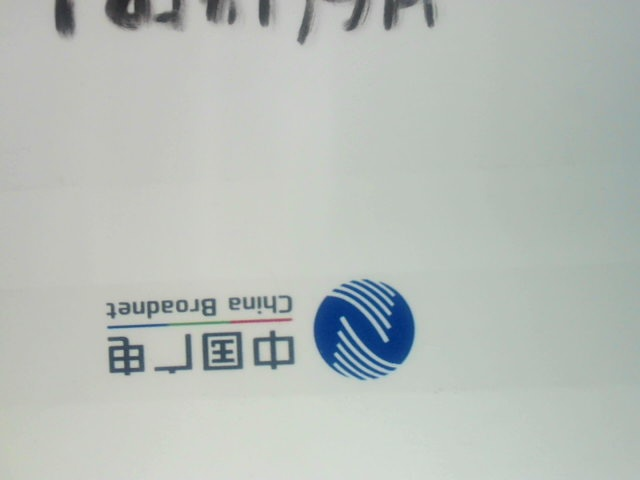AW_ChinaBroadNet: (85, 258, 437, 388)
